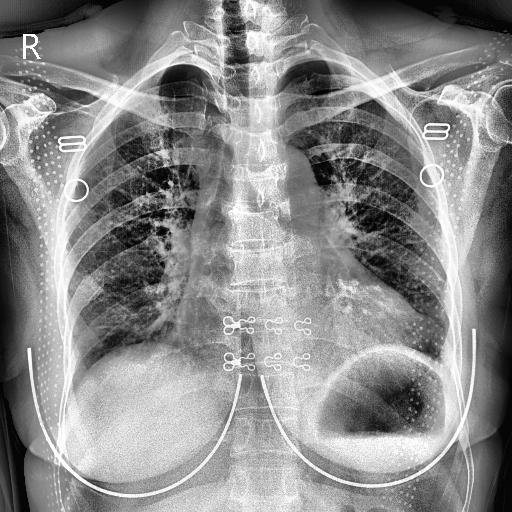0- Aortic enlargement: (250, 140, 322, 229), (248, 145, 320, 226)
3- Cardiomegaly: (166, 279, 425, 351), (173, 285, 428, 358), (163, 297, 426, 361)
